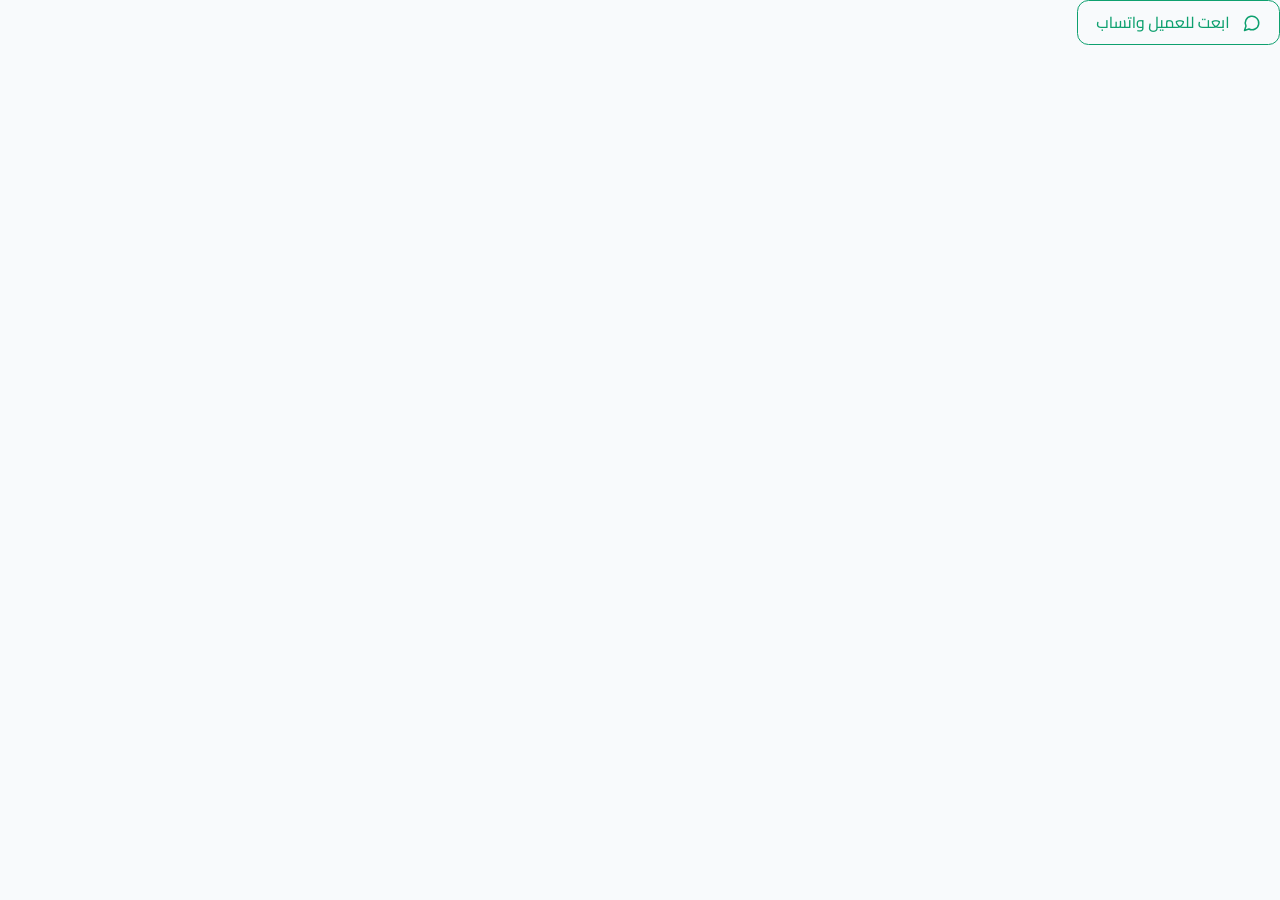
Test case: زرار الواتساب — رقم مش موجود ← تنبيه ← صفحة الحساب (owner 2026-11-19) › a landline: the alert names the number and why WhatsApp can't use it
Click the button "ابعت للعميل واتساب": (1179,22) [1077,0,1279,45]
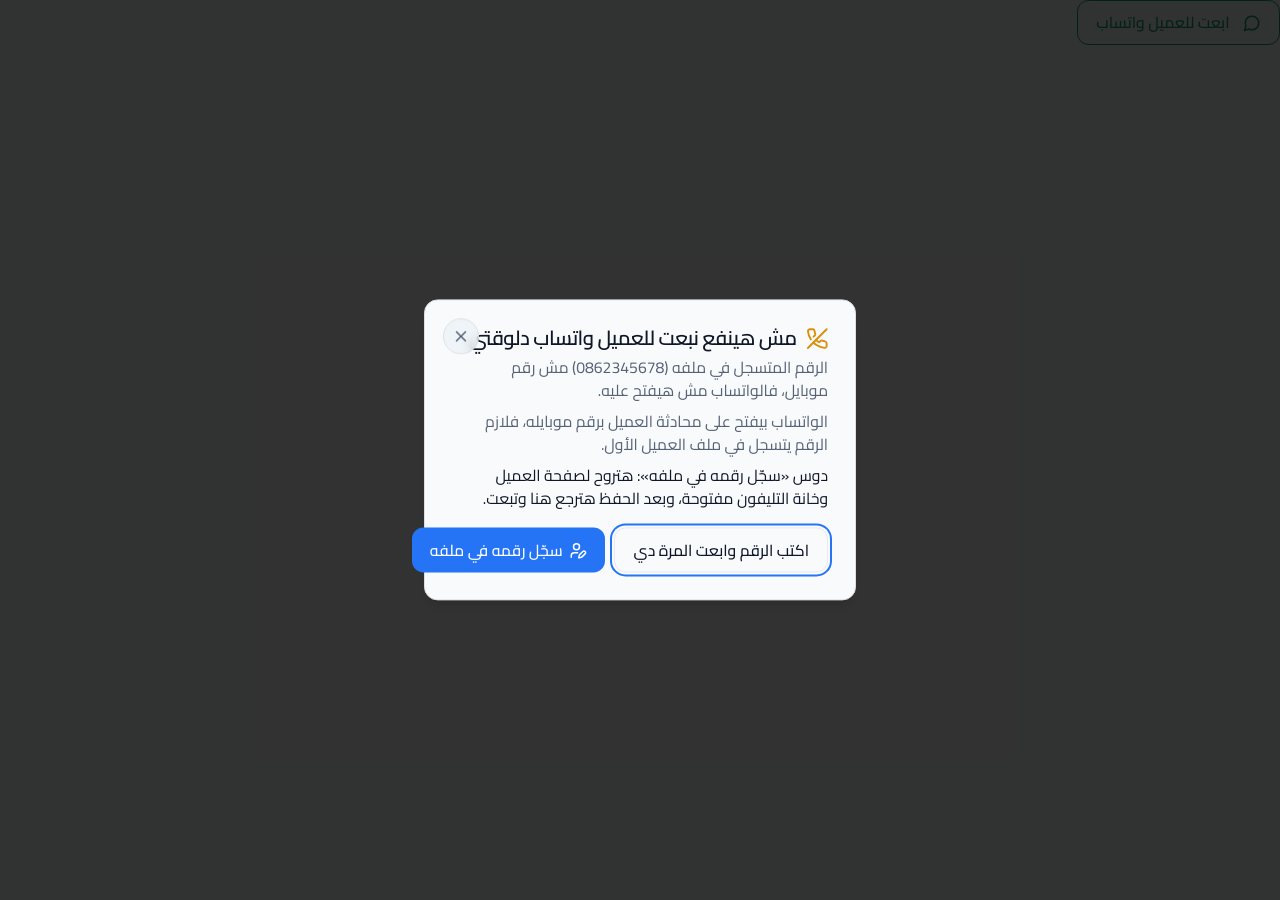
Expected: the element with test id "wa-problem" shows "0862345678", [511,353,828,405]
